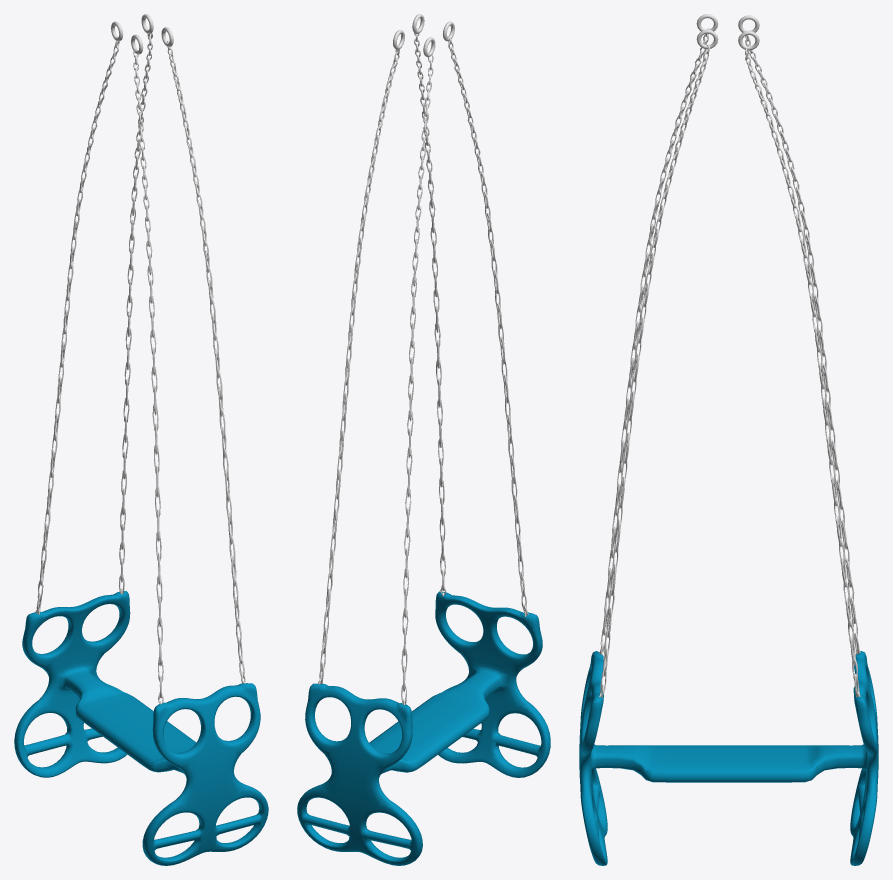
File: HG__b10.caf7f229.glb
3 renders of one model, left to right at view 1: azimuth 30°, elevation 25°; view 2: azimuth 150°, elevation 25°; view 3: azimuth 270°, elevation 25°, orthographic. The views are drawn at different scales.
Visible parts, largest first — view 1: Circle004,_colorize_, Torus005, Torus; view 2: Circle004,_colorize_, Torus005, Torus; view 3: Circle004,_colorize_, Torus005, Torus.
Boxes of the visible parts, box(x1,y1,x2,y2) form: Circle004,_colorize_: box(14, 591, 268, 865); Torus005: box(35, 33, 246, 704); Torus: box(111, 14, 173, 54); Circle004,_colorize_: box(297, 591, 550, 865); Torus005: box(318, 28, 528, 704); Torus: box(393, 14, 454, 57); Circle004,_colorize_: box(579, 651, 878, 865); Torus005: box(599, 28, 860, 697); Torus: box(696, 14, 759, 50).
Bounding box in the file's own units: 0.4543 × 2.78 × 0.9142.
